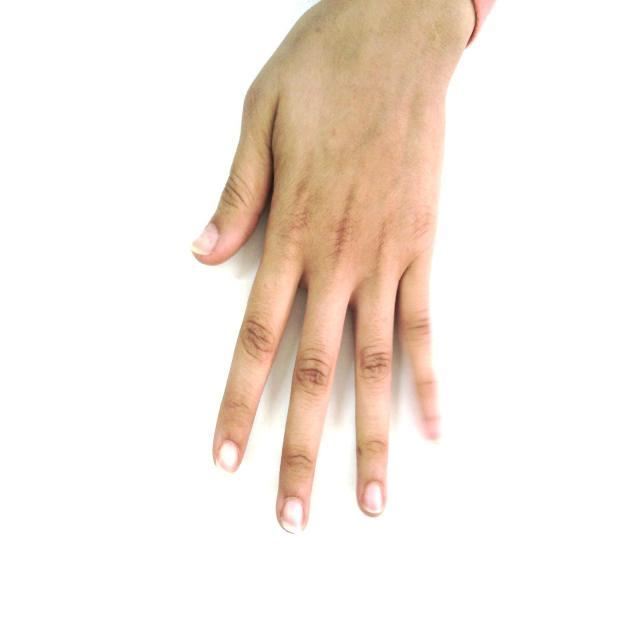Fingernail: (281, 497, 303, 533), (216, 441, 238, 476), (192, 223, 218, 252), (364, 482, 382, 512)
